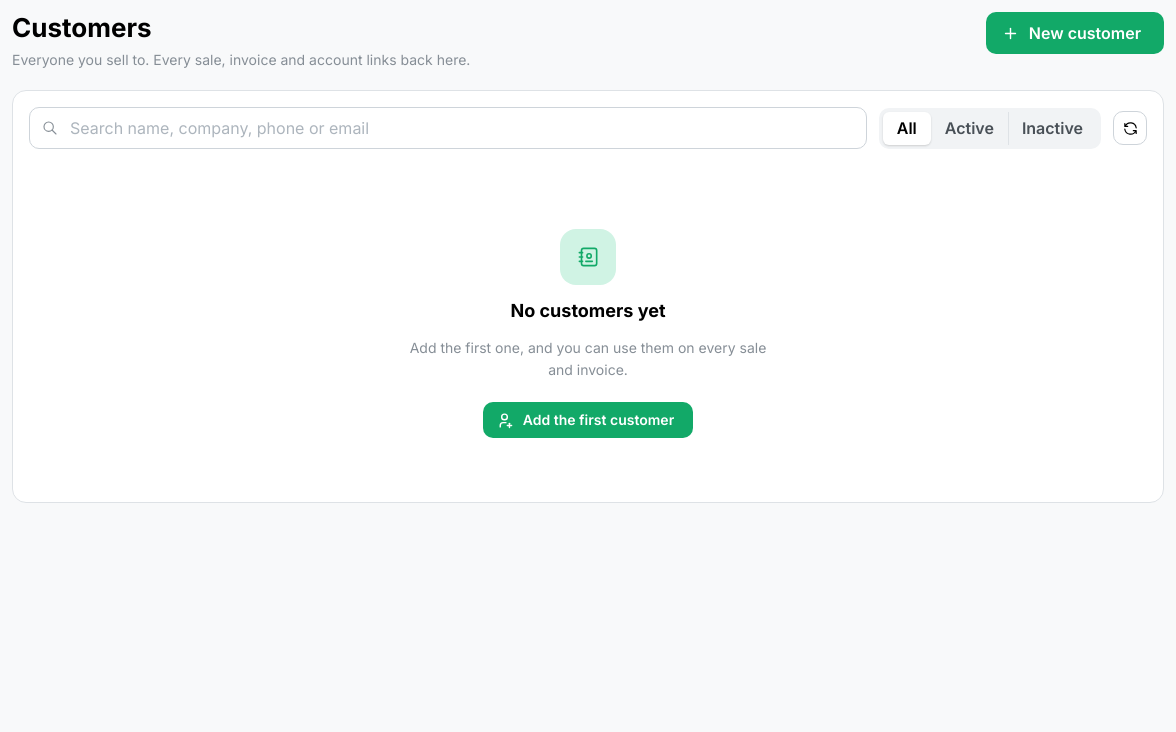
Test: the list › tells an empty system apart from an empty search
Expected: the text "No customers yet" is shown, 510,297 -> 666,325
Type "nobody" into the field with placeholder "Search name, company, phone or email" at (448, 128), box 29,107 -> 867,149
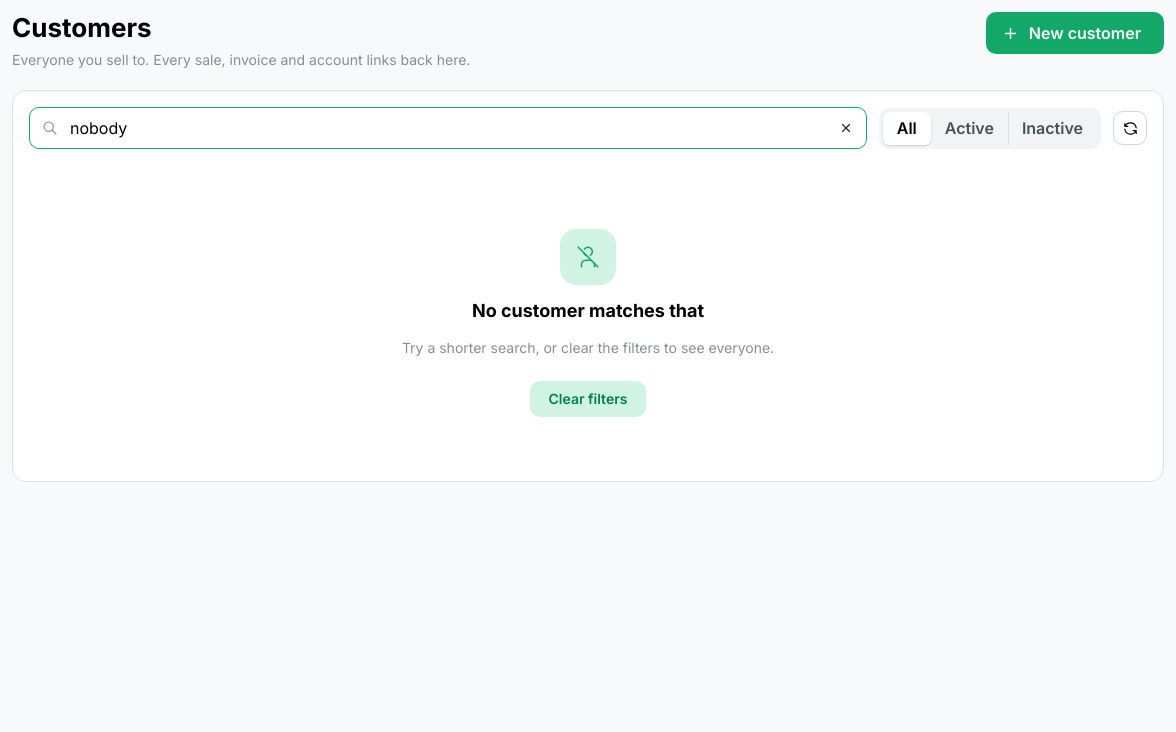
Result: the text "No customer matches that" is shown at 472,297 -> 704,325
Result: the button "Clear filters" is shown at 530,381 -> 646,417
